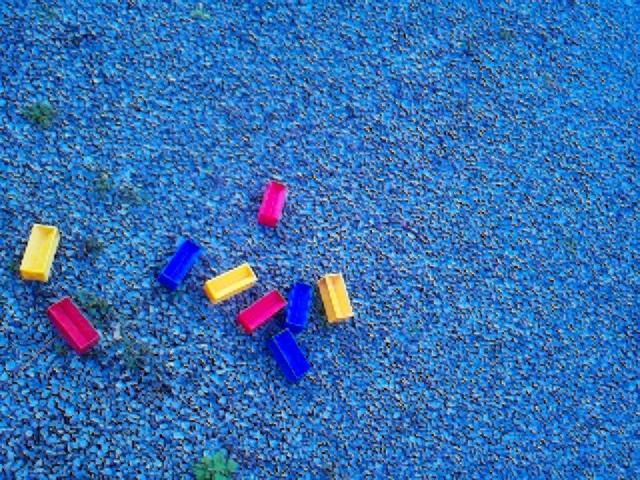blue: (157, 238, 202, 293), (267, 329, 312, 384), (284, 281, 314, 332)
red: (47, 296, 101, 356), (236, 290, 287, 334), (257, 181, 288, 228)
yellow: (19, 223, 61, 283), (204, 263, 258, 305), (317, 272, 355, 324)
